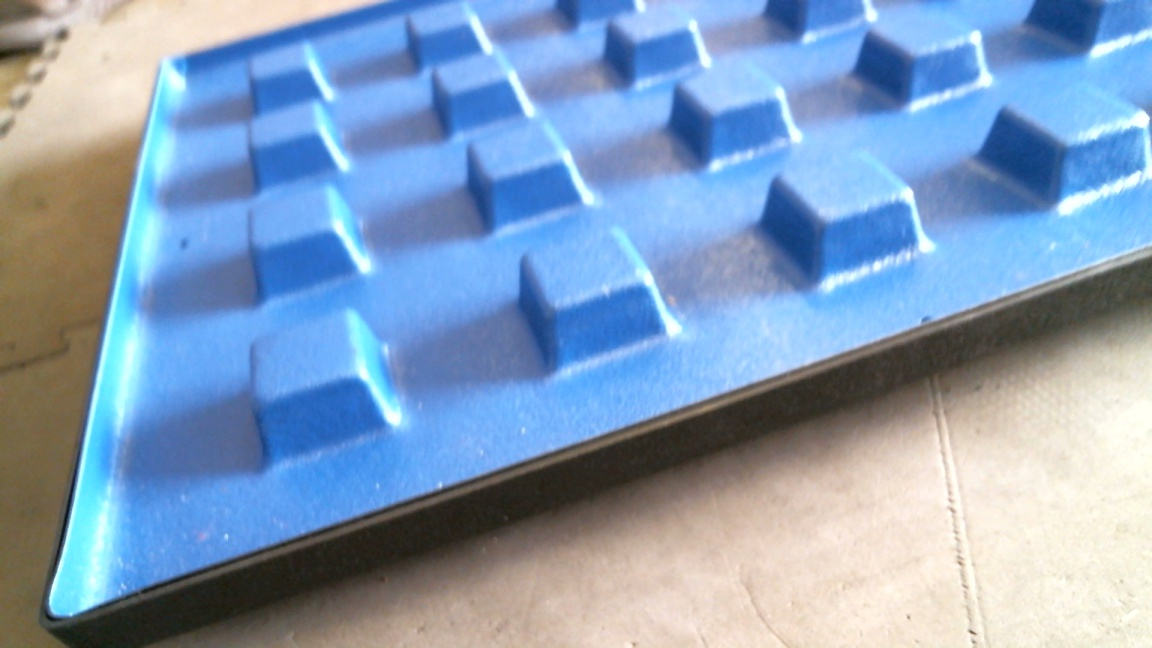blue_foundation: (40, 9, 1152, 641)
